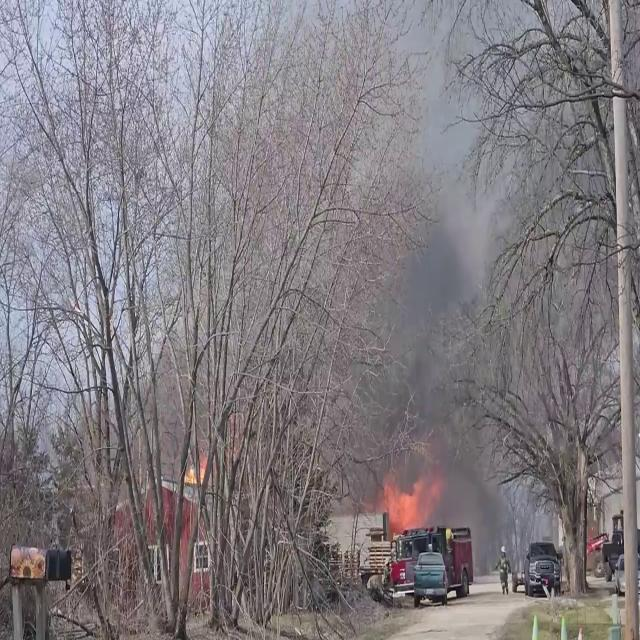Fire: (381, 473, 434, 536)
Smoke: (357, 64, 602, 536)
